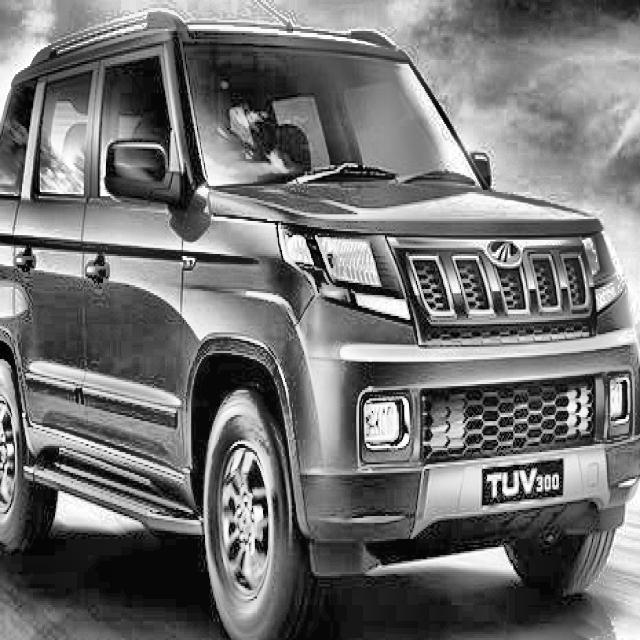light_vehicle: (0, 2, 640, 634)
